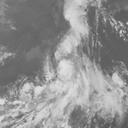cyclone: (43, 48, 101, 101)
